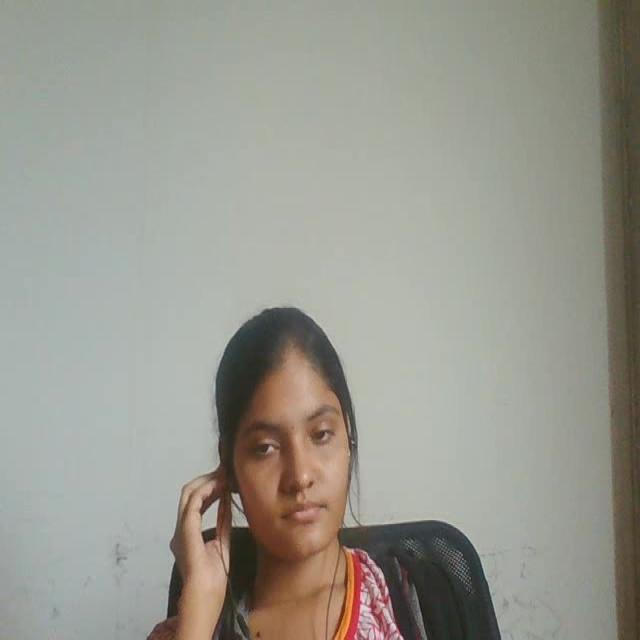Bored: (196, 277, 392, 579)
